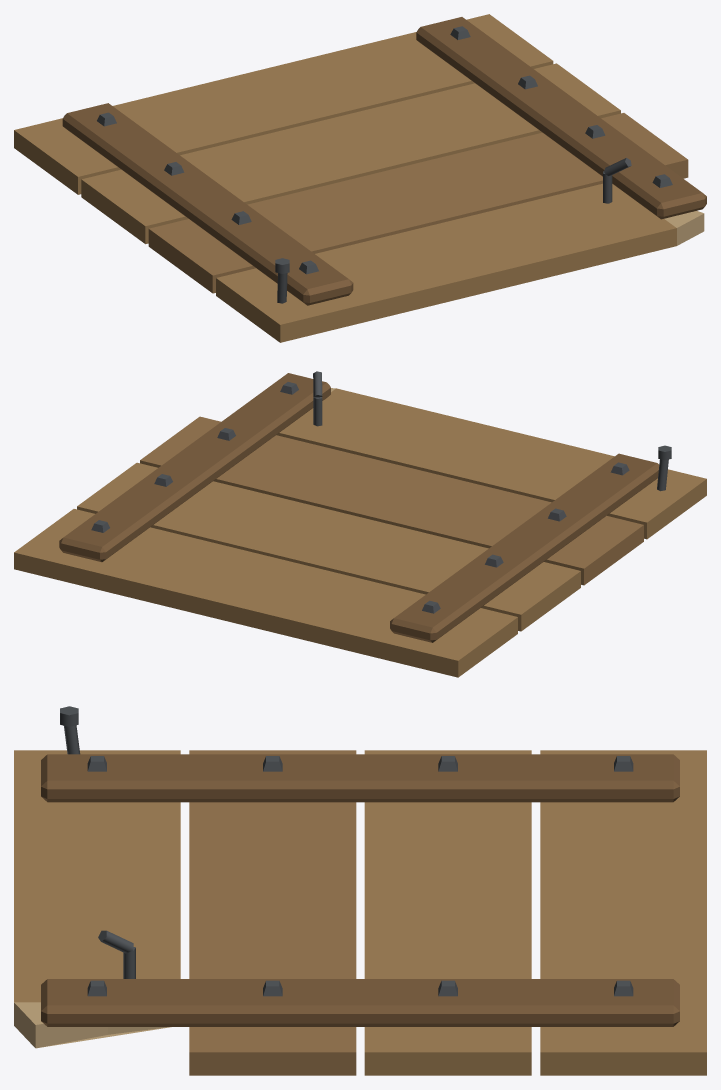
Rendered from SM_LPD_Crate_CrateLid_01.fbx.
3 renders of one model, top to bottom at view 1: azimuth 30°, elevation 25°; view 2: azimuth 150°, elevation 25°; view 3: azimuth 270°, elevation 25°, orthographic. The views are drawn at different scales.
Visible parts, largest first — view 1: SM_LPD_Crate_CrateLid_01; view 2: SM_LPD_Crate_CrateLid_01; view 3: SM_LPD_Crate_CrateLid_01.
Part boxes in pixels (<box>): SM_LPD_Crate_CrateLid_01: <box>14,14,706,342</box>; SM_LPD_Crate_CrateLid_01: <box>14,371,706,677</box>; SM_LPD_Crate_CrateLid_01: <box>14,706,706,1075</box>.
Size of the model in its own units: 0.664 by 0.088 by 0.644.
